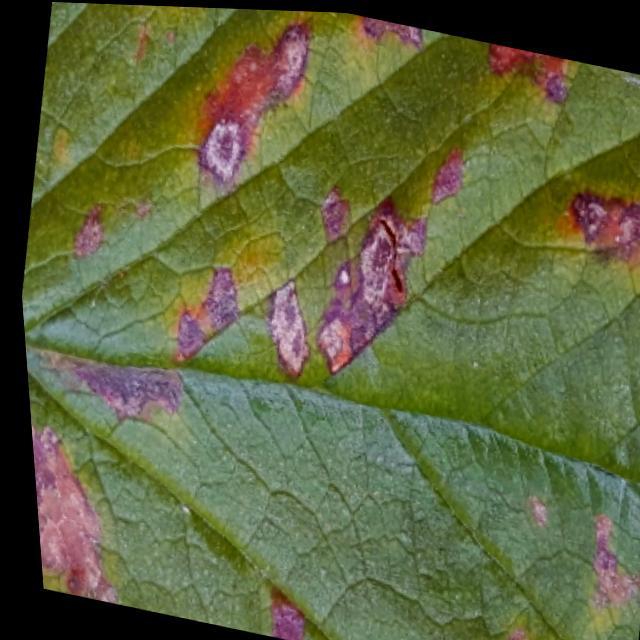Angular Leafspot: (17, 1, 640, 640)
